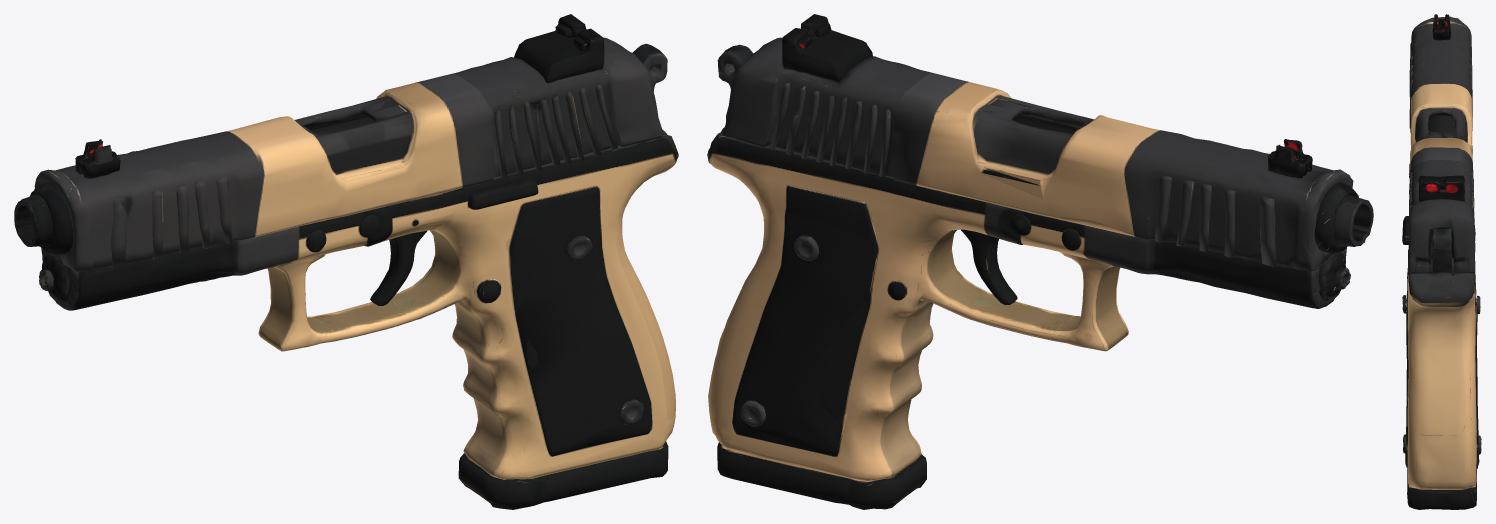
File: AvatarPistol_v132.glb
The picture shows the model from 3 angles, left to right: view 1: azimuth 30°, elevation 25°; view 2: azimuth 150°, elevation 25°; view 3: azimuth 270°, elevation 25°; orthographic projection. The views are drawn at different scales.
Size of the model in its own units: 1 by 0.6738 by 0.1562.
Materials: 1 (1 with a texture image).
